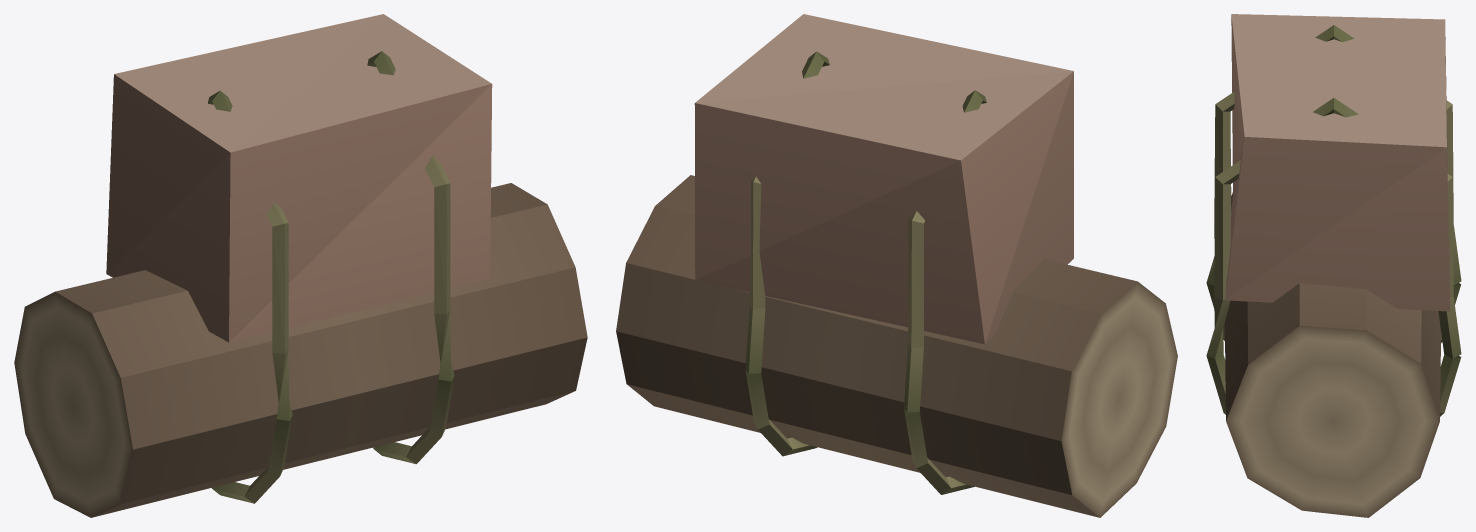
Rendered from drop_log_stone_a.glb.
3 renders of one model, left to right at view 1: azimuth 30°, elevation 25°; view 2: azimuth 150°, elevation 25°; view 3: azimuth 270°, elevation 25°, orthographic. The views are drawn at different scales.
Visible parts, largest first — view 1: drop_log_stone_a; view 2: drop_log_stone_a; view 3: drop_log_stone_a.
Boxes of the visible parts, x1,y1,x2,y2 form: drop_log_stone_a: (14,14,587,517); drop_log_stone_a: (616,14,1177,517); drop_log_stone_a: (1206,14,1461,517).
Size of the model in its own units: 0.62 by 0.526 by 0.3259.
